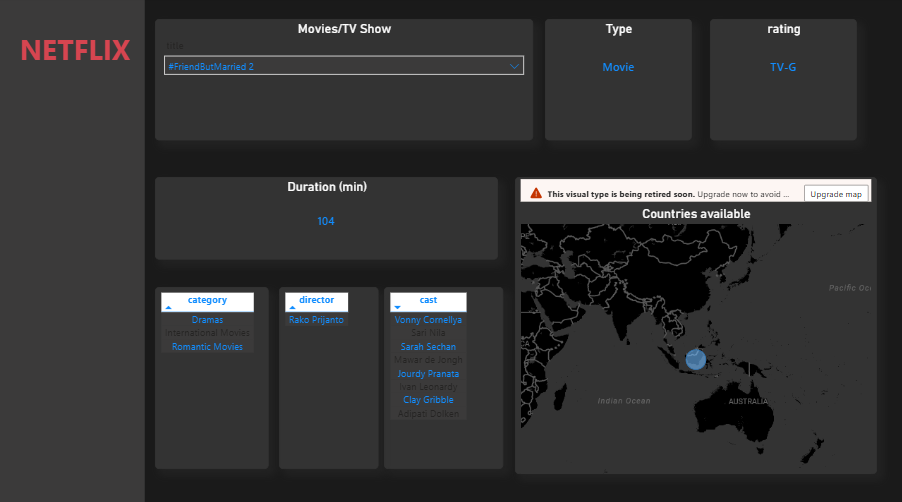

This screenshot's page, from the dashboard's own definition file:
{"tool":"powerbi","page":{"name":"Duplicate of Overview","canvas":[1280,720],"ordinal":1},"visuals":[{"type":"cardVisual","title":"rating","fields":{"Rows":["netflix_data netflix_titles.rating"]},"box":[1008.9,31.6,208.1,172.1],"z":0},{"type":"map","title":"Countries available","fields":{"Category":["netflix_data countries_released.country"],"Size":["CountNonNull(netflix_data countries_released.show_id)"]},"box":[732.3,254.6,512.8,420.6],"z":1000},{"type":"actionButton","box":[12.3,12.3,188.8,115],"z":2000},{"type":"shape","box":[0,0,208.3,720.6],"z":3000},{"type":"actionButton","box":[9.7,12.3,198.4,121.2],"z":4000},{"type":"cardVisual","title":"Type","fields":{"Rows":["netflix_data netflix_titles.type"]},"box":[775.3,31.6,208.1,172.1],"z":5000},{"type":"slicer","title":"Movies/TV Show","fields":{"Values":["netflix_data netflix_titles.title"]},"box":[222.1,31.6,535.6,172.1],"z":6000},{"type":"tableEx","title":"Cast","fields":{"Values":["netflix_data netflix_cast.cast"]},"box":[547,410.9,169.5,258.1],"z":7000},{"type":"tableEx","title":"Cast","fields":{"Values":["netflix_data netflix_directors.director"]},"box":[398.6,410.9,141.4,258.1],"z":8000},{"type":"tableEx","title":"Cast","fields":{"Values":["netflix_data netflix_listed_in.category"]},"box":[222.1,410.9,160.7,258.1],"z":9000},{"type":"cardVisual","title":"Duration (min)","fields":{"Rows":["netflix_data netflix_titles.duration"]},"box":[222.1,254.6,485.6,116.8],"z":9001}]}

Visuals, with their boxes in screenshot pixels (x1, y1, x2, y2), scaled from the page's 1280x720 canvas onto the 902x502 screenshot:
"rating" cardVisual: box=[711, 22, 858, 142]
"Countries available" map: box=[516, 178, 877, 471]
actionButton: box=[9, 9, 142, 89]
shape: box=[0, 0, 147, 501]
actionButton: box=[7, 9, 147, 93]
"Type" cardVisual: box=[546, 22, 693, 142]
"Movies/TV Show" slicer: box=[157, 22, 534, 142]
"Cast" tableEx: box=[385, 286, 505, 466]
"Cast" tableEx: box=[281, 286, 381, 466]
"Cast" tableEx: box=[157, 286, 270, 466]
"Duration (min)" cardVisual: box=[157, 178, 499, 259]
